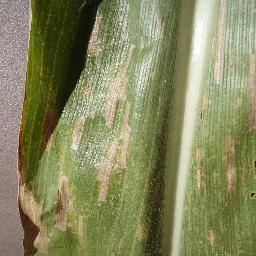Gray_Leaf_Spot: (96, 52, 140, 209), (11, 122, 50, 256), (51, 173, 82, 234), (208, 1, 228, 83), (15, 60, 39, 125), (36, 97, 69, 138), (221, 134, 242, 194), (86, 8, 109, 61), (243, 42, 256, 133), (68, 113, 91, 155), (189, 144, 207, 192), (150, 15, 173, 45), (198, 87, 216, 115), (135, 220, 153, 247), (206, 227, 220, 254), (217, 245, 244, 256), (250, 153, 256, 183), (246, 188, 256, 202)
